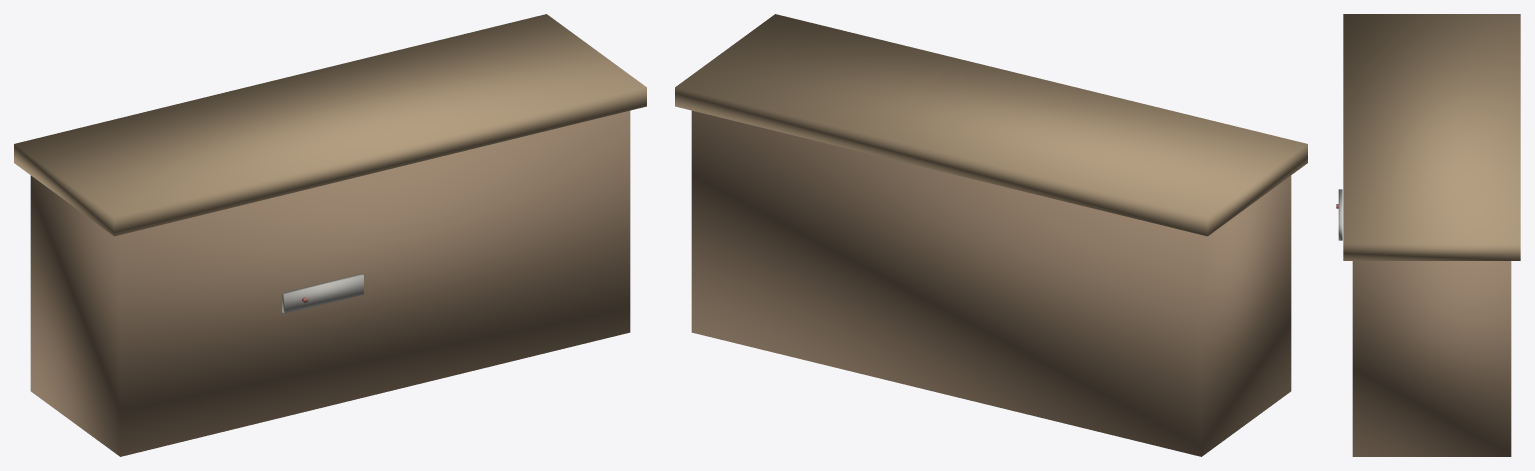
Rendered from pawn_counter__wide.glb.
3 views of the same model, side by side, from view 1: azimuth 30°, elevation 25°; view 2: azimuth 150°, elevation 25°; view 3: azimuth 270°, elevation 25° (orthographic). The views are drawn at different scales.
Visible parts, largest first — view 1: world; view 2: world; view 3: world.
Part boxes in pixels (bbox=[...]): world: bbox=[14, 14, 646, 456]; world: bbox=[675, 14, 1307, 456]; world: bbox=[1336, 14, 1520, 456].
Size of the model in its own units: 2.33 by 1.03 by 0.791.
